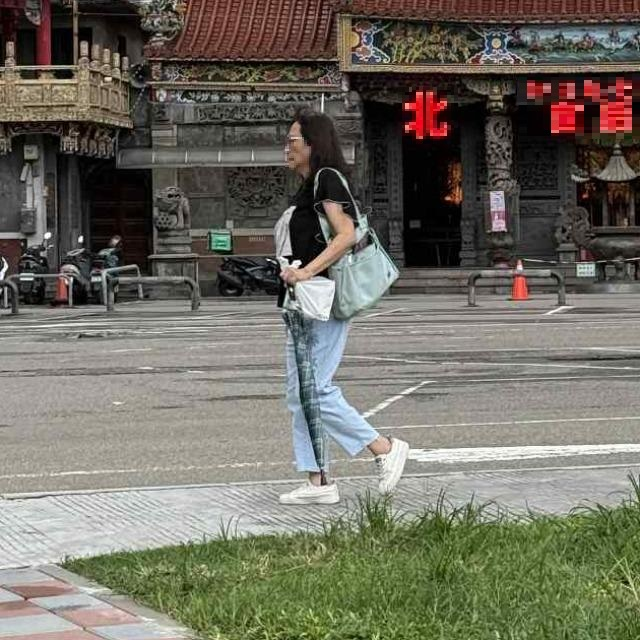NoHelmet: (281, 107, 345, 171)
